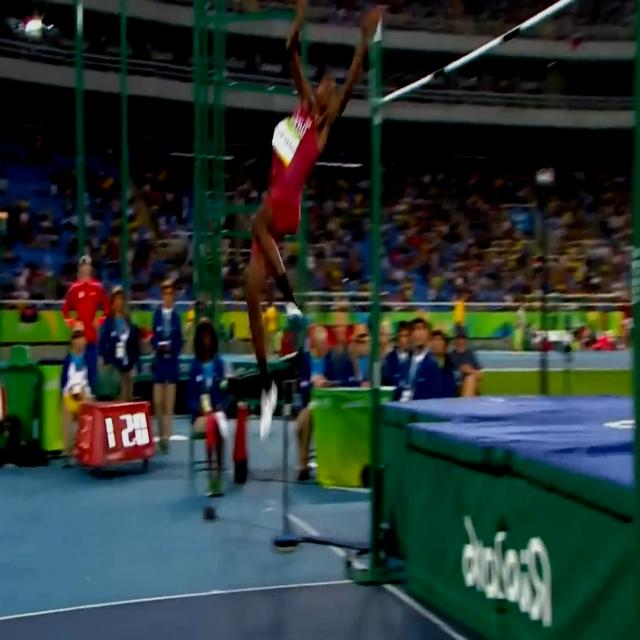jump: (244, 0, 386, 443)
